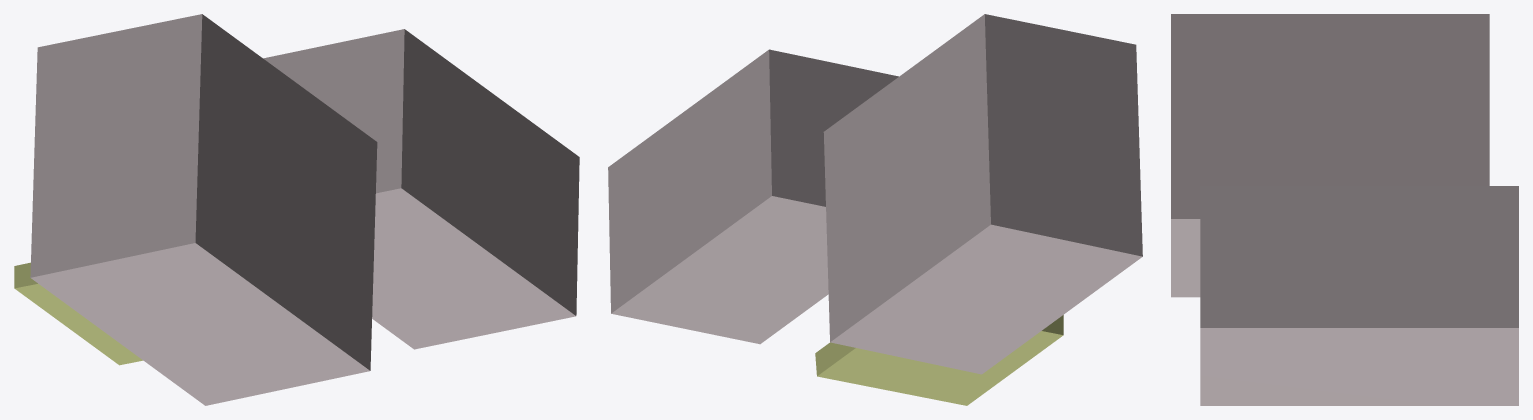
The picture shows the model from 3 angles, left to right: view 1: azimuth 30°, elevation 25°; view 2: azimuth 150°, elevation 25°; view 3: azimuth 270°, elevation 25°; orthographic projection. The views are drawn at different scales.
Visible parts, largest first — view 1: 0_2_1_3_0_0_2_0_0_2; view 2: 0_2_1_3_0_0_2_0_0_2; view 3: 0_2_1_3_0_0_2_0_0_2.
Part boxes in pixels (x1=…): 0_2_1_3_0_0_2_0_0_2: x1=14, y1=14, x2=579, y2=405; 0_2_1_3_0_0_2_0_0_2: x1=608, y1=14, x2=1142, y2=405; 0_2_1_3_0_0_2_0_0_2: x1=1171, y1=14, x2=1518, y2=405.
Size of the model in its own units: 19.31 by 12.24 by 16.38.
